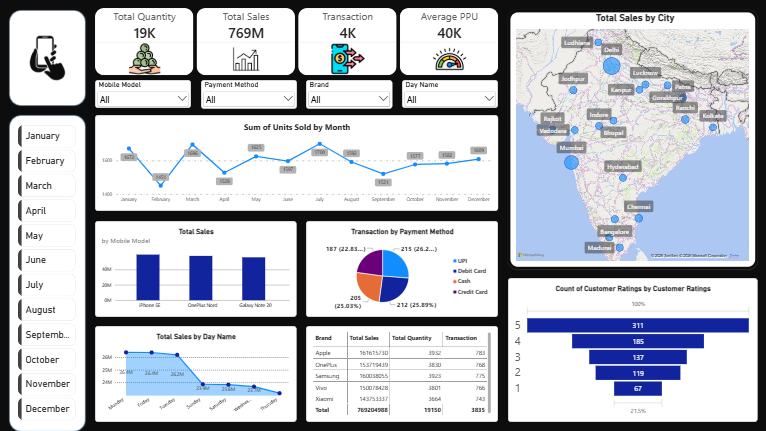

What the dashboard file says about the page in this screenshot:
{"tool":"powerbi","page":{"name":"Page 1","canvas":[1920,1080],"ordinal":0},"visuals":[{"type":"shape","box":[24,24,192,240],"z":0},{"type":"image","box":[24,24,192,240],"z":1000},{"type":"shape","box":[24,288,192,792],"z":2000},{"type":"advancedSlicerVisual","fields":{"Values":["Sheet1.Date.Variation.Date Hierarchy.Month"]},"box":[48,312,144,744],"z":3000},{"type":"cardVisual","fields":{"Data":["Sales_Data.Total Quantity","Sales_Data.Total Sales","Sales_Data.Transaction","Sales_Data.Average PPU"]},"box":[240,19,1008,168],"z":4000},{"type":"map","fields":{"Category":["Sales_Data.City"],"Size":["Sales_Data.Total Sales"]},"box":[1272,24,624,648],"z":5000},{"type":"lineChart","fields":{"Category":["Sales_Data.Date.Variation.Date Hierarchy.Month","Sales_Data.Date.Variation.Date Hierarchy.Day"],"Y":["Sum(Sales_Data.Units Sold)"]},"box":[240,288,1008,240],"z":6000},{"type":"clusteredColumnChart","fields":{"Category":["Sales_Data.Mobile Model"],"Y":["Sales_Data.Total Sales"]},"box":[240,552,504,240],"z":7000},{"type":"pieChart","fields":{"Category":["Sales_Data.Payment Method"],"Y":["Sales_Data.Transaction"]},"box":[768,552,480,240],"z":8000},{"type":"funnel","fields":{"Category":["Sales_Data.Customer Ratings"],"Y":["CountNonNull(Sales_Data.Customer Ratings)"]},"box":[1272,696,624,360],"z":9000},{"type":"stackedAreaChart","fields":{"Category":["Sales_Data.Day Name"],"Y":["Sales_Data.Total Sales"]},"box":[240,816,504,240],"z":10000},{"type":"tableEx","fields":{"Values":["Sales_Data.Brand","Sales_Data.Total Sales","Sales_Data.Total Quantity","Sales_Data.Transaction"]},"box":[768,816,480,240],"z":11000},{"type":"slicer","fields":{"Values":["Sales_Data.Mobile Model"]},"box":[240,200,240,70],"z":12000},{"type":"slicer","fields":{"Values":["Sales_Data.Payment Method"]},"box":[504,200,240,72],"z":13000},{"type":"slicer","fields":{"Values":["Sales_Data.Brand"]},"box":[768,200,216,72],"z":14000},{"type":"slicer","fields":{"Values":["Sales_Data.Day Name"]},"box":[1008,200,240,70],"z":15000}]}

Visuals, with their boxes in screenshot pixels (x1, y1, x2, y2), scaled from the page's 1920x1080 canvas onto the 766x431 screenshot:
shape: x1=10 y1=10 x2=86 y2=105
image: x1=10 y1=10 x2=86 y2=105
shape: x1=10 y1=115 x2=86 y2=430
advancedSlicerVisual - Sheet1.Date.Variation.Date Hierarchy.Month: x1=19 y1=125 x2=77 y2=421
cardVisual - Sales_Data.Total Quantity x Sales_Data.Total Sales: x1=96 y1=8 x2=498 y2=75
map - Sales_Data.City x Sales_Data.Total Sales: x1=507 y1=10 x2=756 y2=268
lineChart - Sales_Data.Date.Variation.Date Hierarchy.Month x Sales_Data.Date.Variation.Date Hierarchy.Day: x1=96 y1=115 x2=498 y2=211
clusteredColumnChart - Sales_Data.Mobile Model x Sales_Data.Total Sales: x1=96 y1=220 x2=297 y2=316
pieChart - Sales_Data.Payment Method x Sales_Data.Transaction: x1=306 y1=220 x2=498 y2=316
funnel - Sales_Data.Customer Ratings x CountNonNull(Sales_Data.Customer Ratings): x1=507 y1=278 x2=756 y2=421
stackedAreaChart - Sales_Data.Day Name x Sales_Data.Total Sales: x1=96 y1=326 x2=297 y2=421
tableEx - Sales_Data.Brand x Sales_Data.Total Sales: x1=306 y1=326 x2=498 y2=421
slicer - Sales_Data.Mobile Model: x1=96 y1=80 x2=192 y2=108
slicer - Sales_Data.Payment Method: x1=201 y1=80 x2=297 y2=109
slicer - Sales_Data.Brand: x1=306 y1=80 x2=393 y2=109
slicer - Sales_Data.Day Name: x1=402 y1=80 x2=498 y2=108
